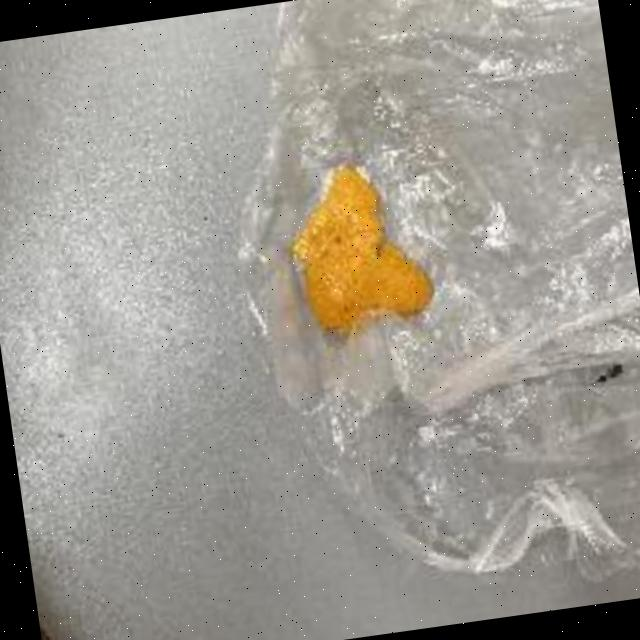orange-peel: (274, 148, 441, 342)
